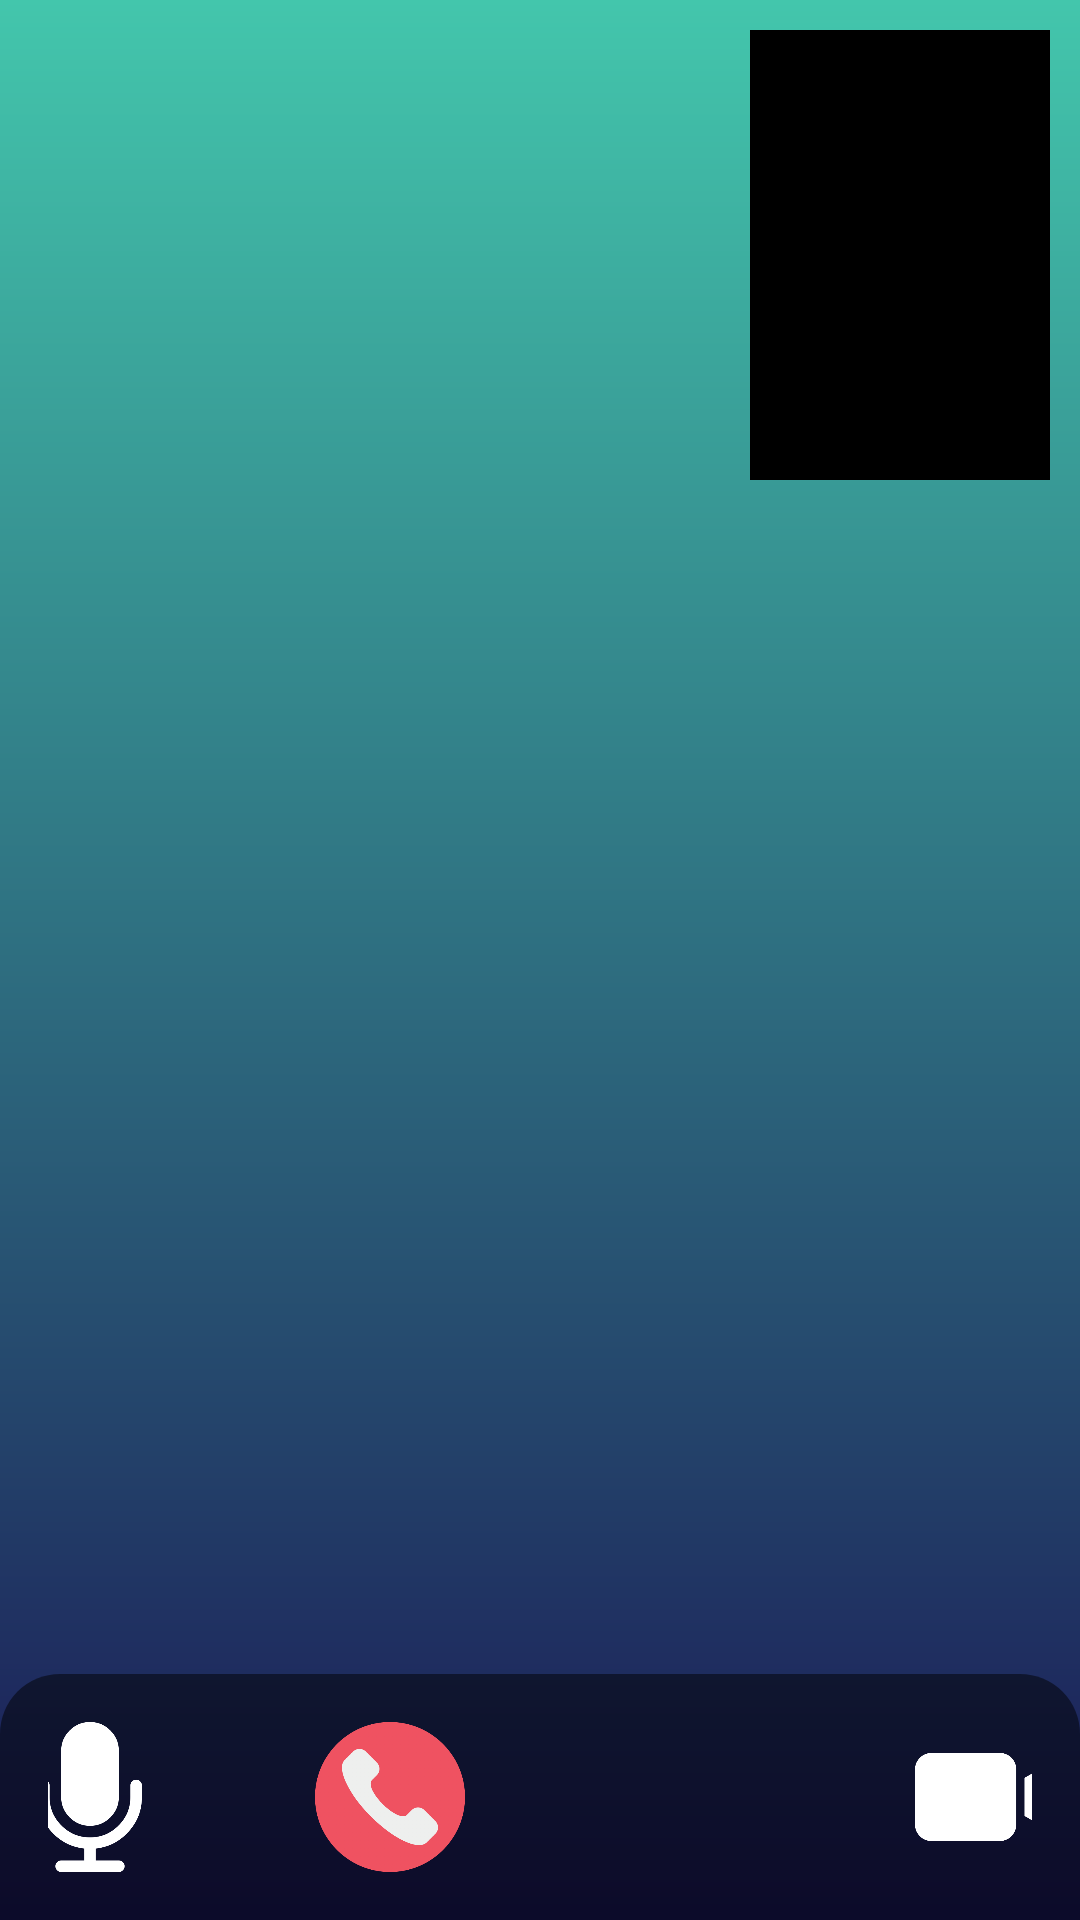

Named icons in this screenshot (1080px x 1920px) and their centers, (x,y):
mic: (95,1797)
phone call: (390,1797)
